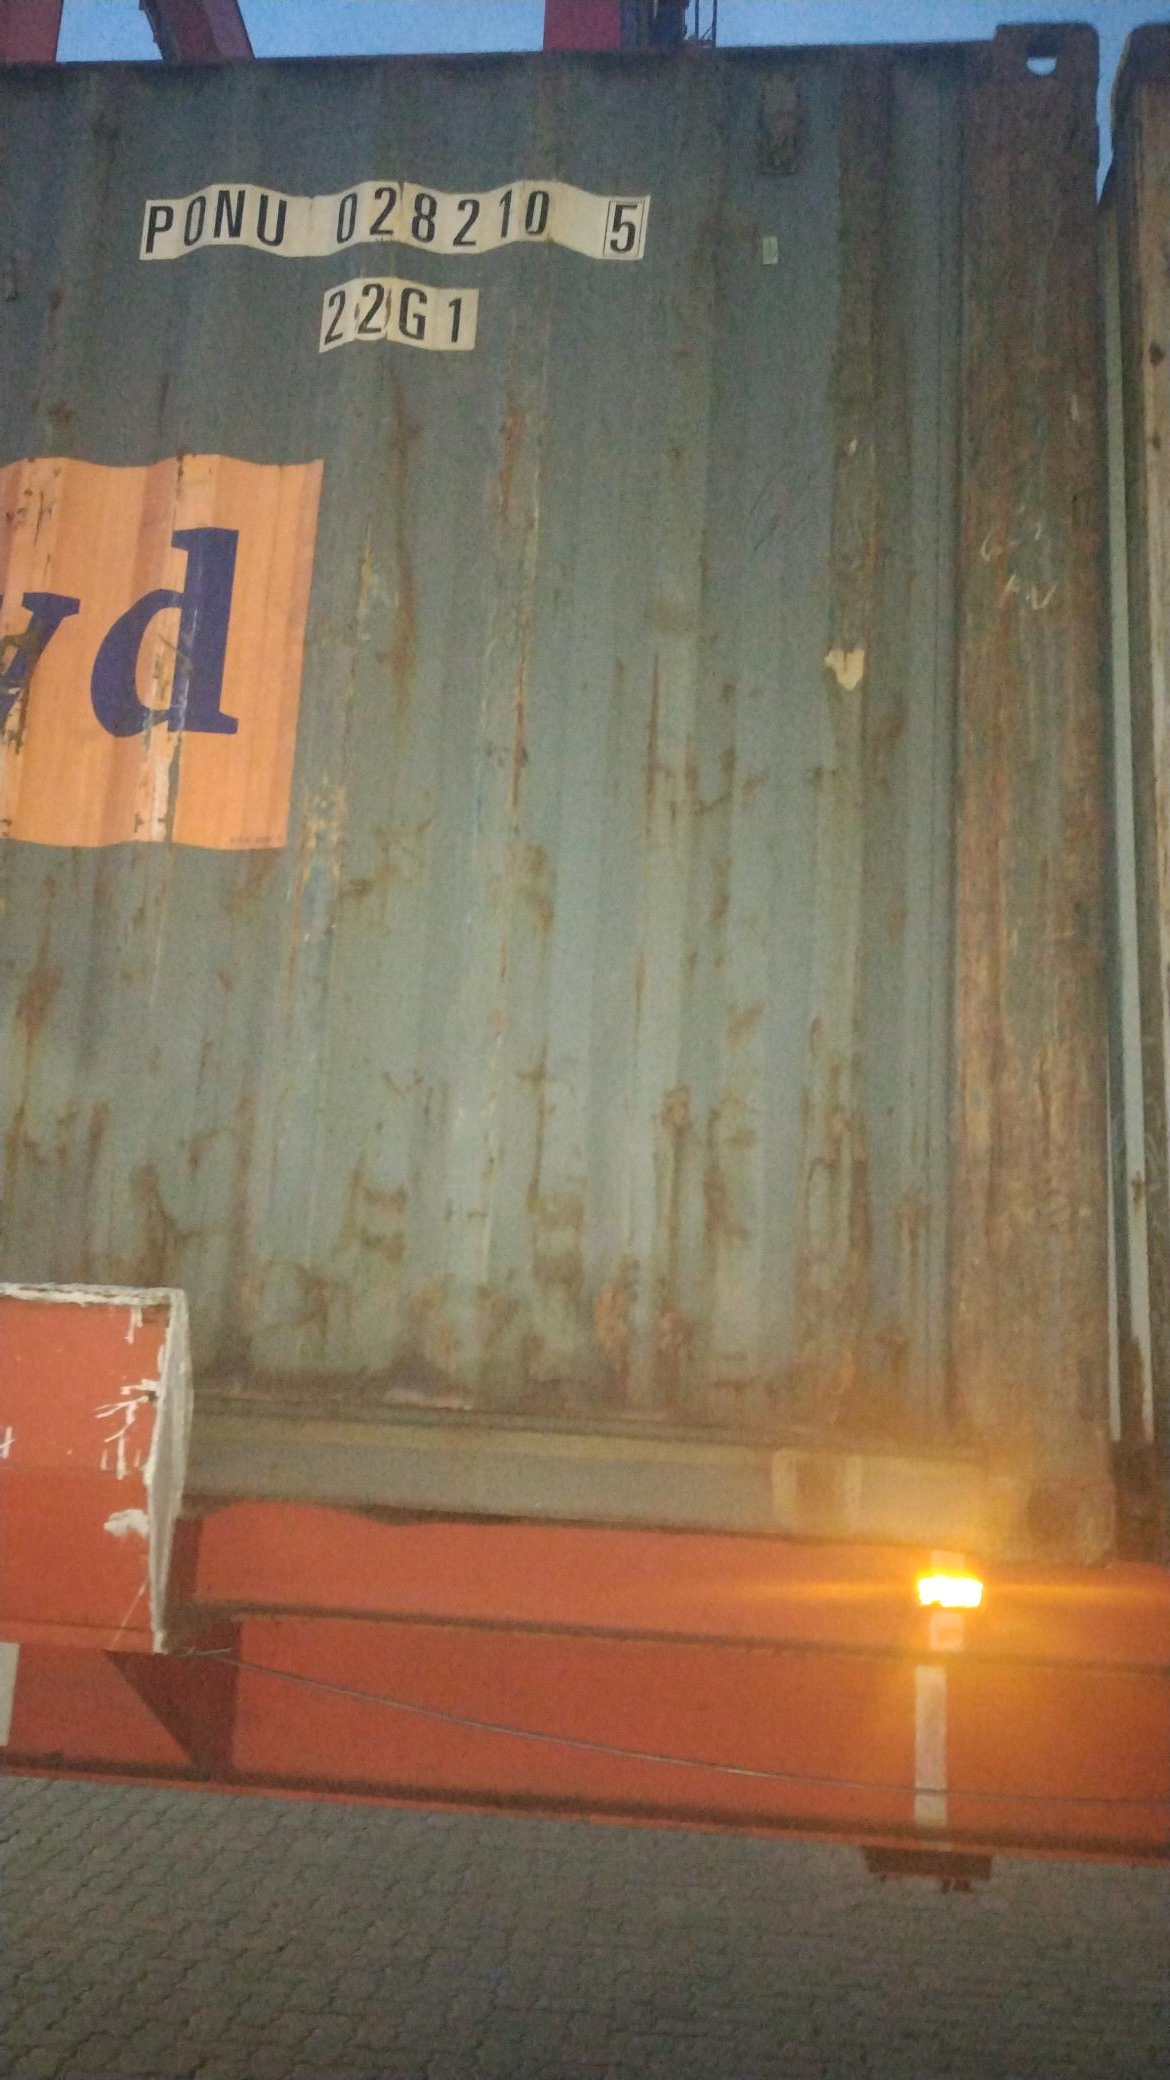rust: (187, 1187, 966, 1450), (974, 380, 1129, 1424)
